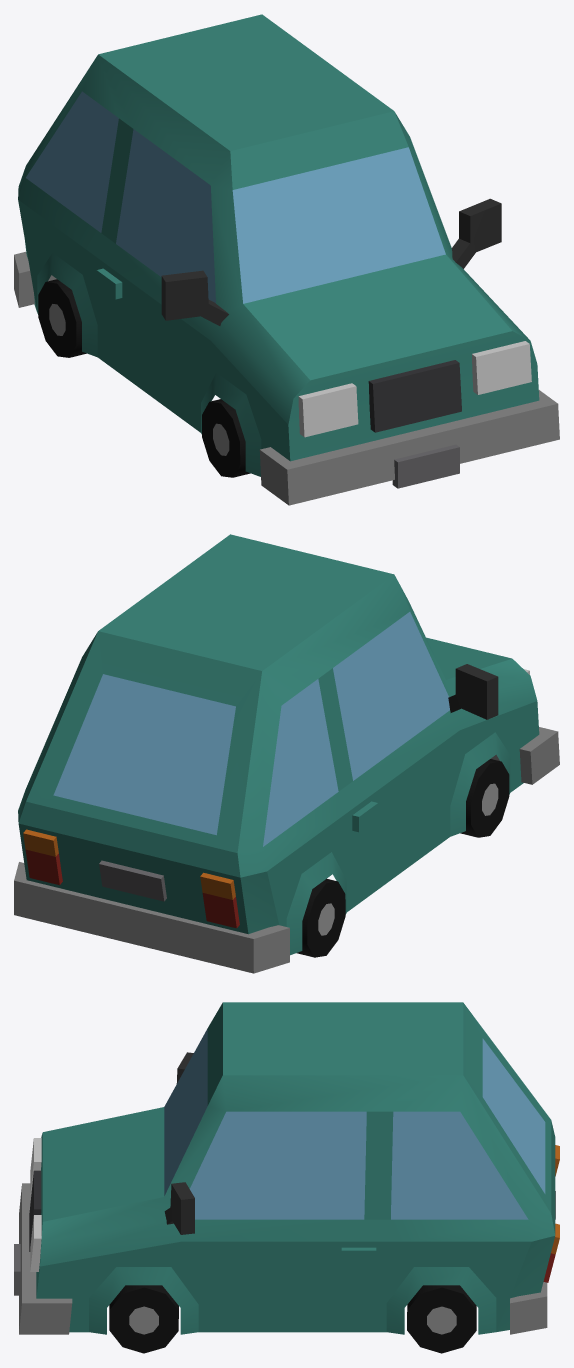
Rendered from Car_04_virid.fbx.
3 views of the same model, one above another, from view 1: azimuth 30°, elevation 25°; view 2: azimuth 150°, elevation 25°; view 3: azimuth 270°, elevation 25° (orthographic). The views are drawn at different scales.
Parts seen in each view (by area): view 1: Car_04_virid; view 2: Car_04_virid; view 3: Car_04_virid.
Part boxes in pixels (x1,y1,x2,y2): Car_04_virid: (14, 14, 559, 505); Car_04_virid: (14, 534, 559, 973); Car_04_virid: (14, 1002, 559, 1353).
Size of the model in its own units: 60.07 by 48.41 by 93.91.
